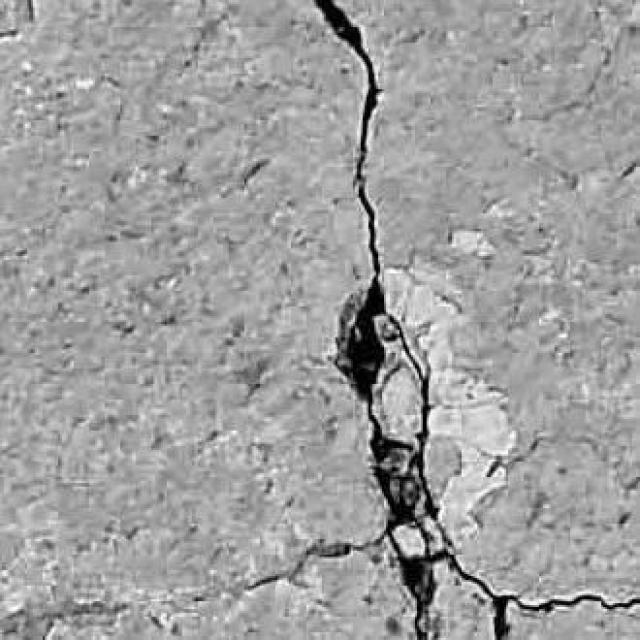crack: (315, 0, 639, 639), (315, 0, 382, 279), (243, 532, 385, 591), (0, 600, 129, 638)
